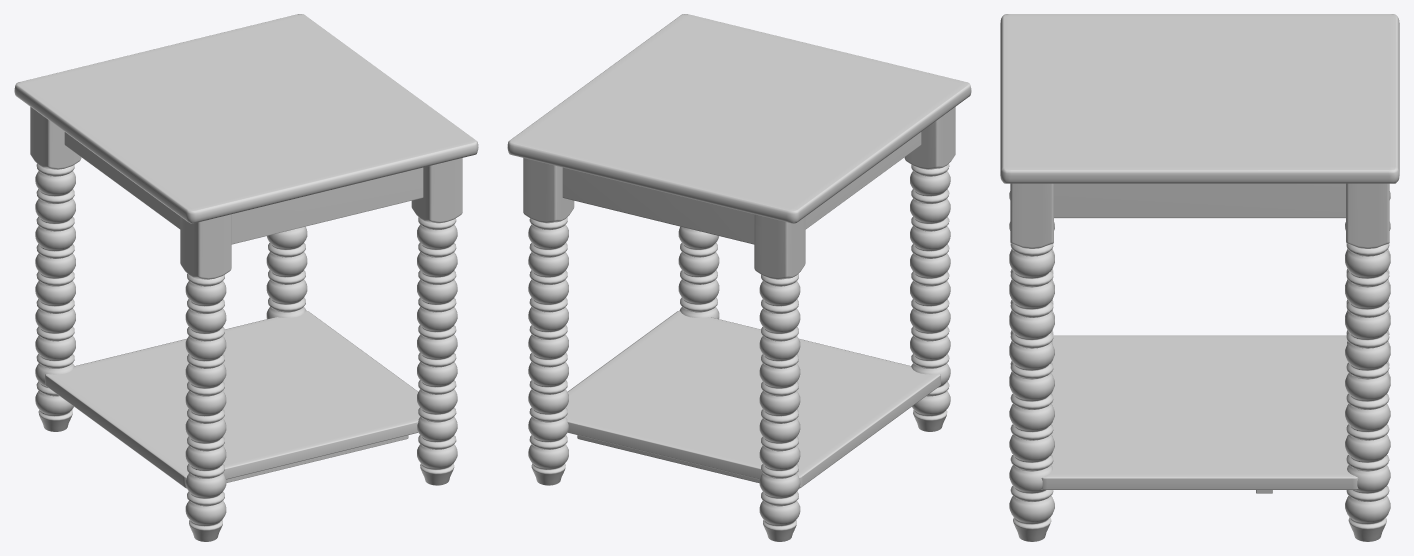
The model's file is abo-B07M6PKCPV.glb.
The picture shows the model from 3 angles, left to right: view 1: azimuth 30°, elevation 25°; view 2: azimuth 150°, elevation 25°; view 3: azimuth 270°, elevation 25°; orthographic projection. The views are drawn at different scales.
Size of the model in its own units: 0.5 by 0.563 by 0.533.
Materials: 1 (1 with a texture image).
